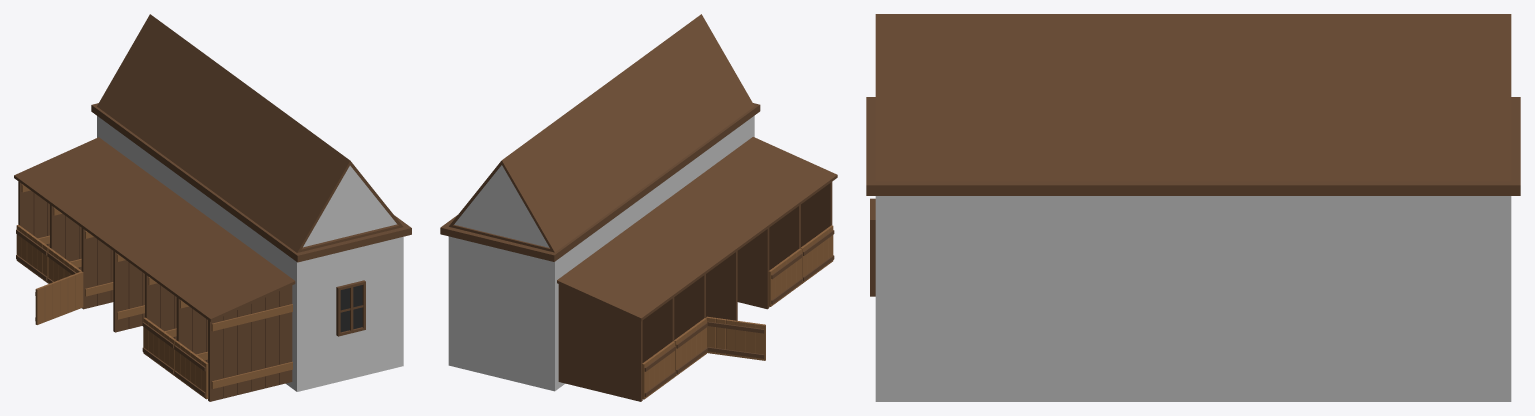
File: Stable_base_mat.fbx
3 renders of one model, left to right at view 1: azimuth 30°, elevation 25°; view 2: azimuth 150°, elevation 25°; view 3: azimuth 270°, elevation 25°, orthographic. The views are drawn at different scales.
Parts seen in each view (by area): view 1: Stable_base_mat; view 2: Stable_base_mat; view 3: Stable_base_mat.
Boxes of the visible parts, bbox=[...] form: Stable_base_mat: bbox=[14, 14, 411, 401]; Stable_base_mat: bbox=[440, 14, 837, 401]; Stable_base_mat: bbox=[866, 14, 1520, 401].
Bounding box in the file's own units: 462 × 390 × 667.
